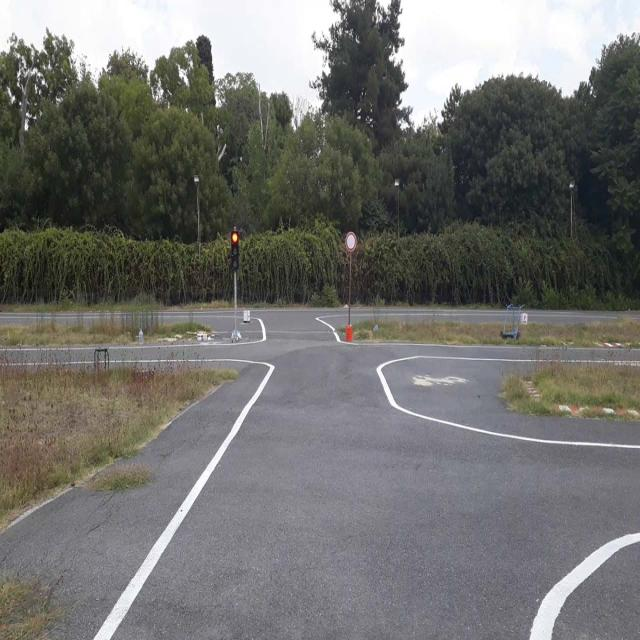kirmizi: (232, 231, 239, 269)
